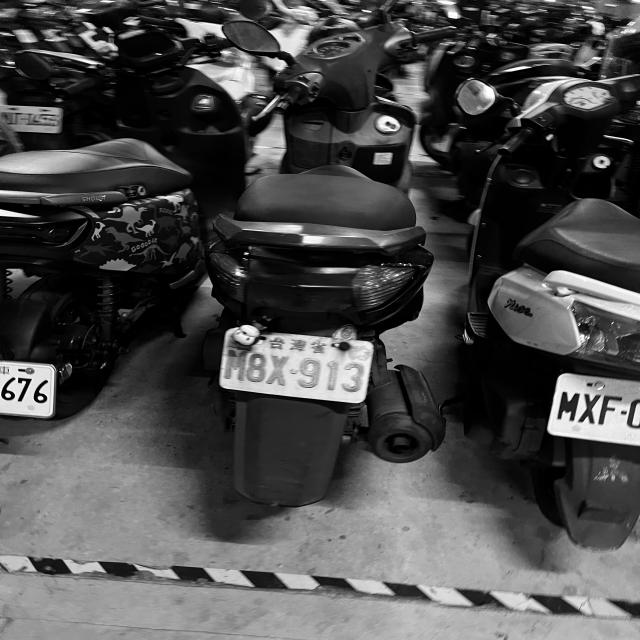-: (290, 368, 299, 374), (621, 409, 627, 418)
1: (327, 358, 340, 392)
3: (341, 361, 365, 395)
6: (34, 378, 50, 404), (2, 374, 16, 402)
7: (17, 377, 33, 403)
8: (247, 351, 267, 385)
9: (298, 356, 320, 390)
F: (598, 393, 622, 426)
M: (224, 347, 248, 382), (558, 390, 578, 421)
X: (267, 352, 287, 387), (580, 391, 599, 426)
plate: (220, 332, 367, 394)
